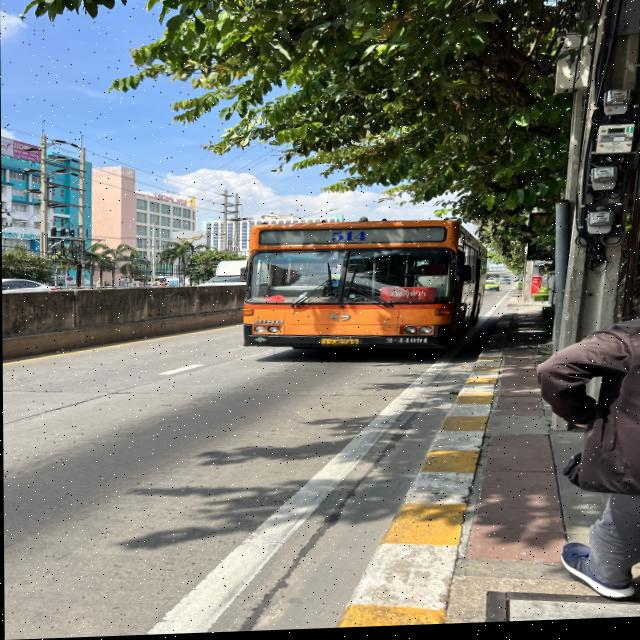BMTA-bus: (241, 221, 485, 360)
Bus Line Number: (325, 233, 372, 246)
Bus Side Number: (382, 340, 428, 349)
Destination Sign: (383, 289, 437, 306)
